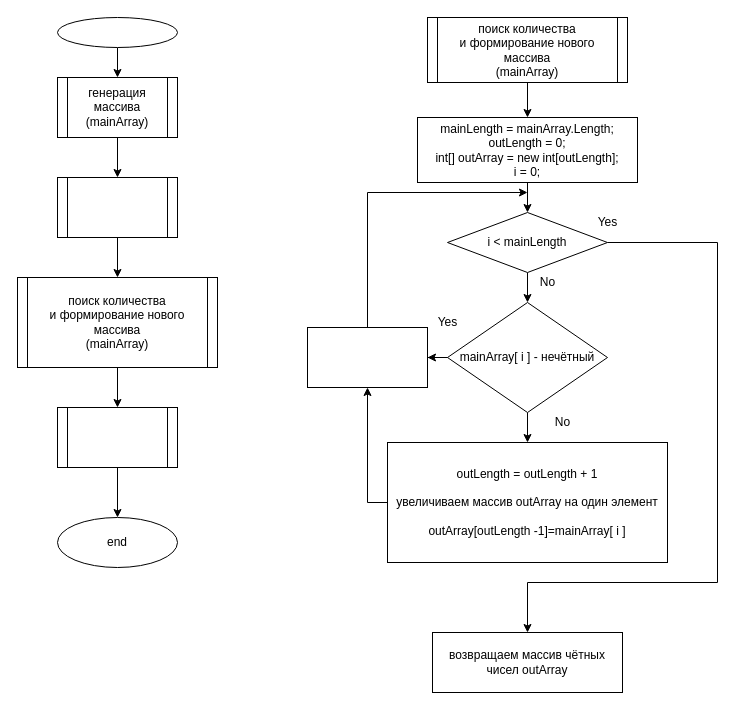
This 743x710 diagram has some shape labels left out. The shapes that lost their labels are listed below. From the top down, each one's centre as x and y in pixels, then its label:
the point at 117,32: start
the point at 117,207: вывод массива (mainArray)
the point at 367,357: i = i +1
the point at 117,437: вывод массива (outArray)
